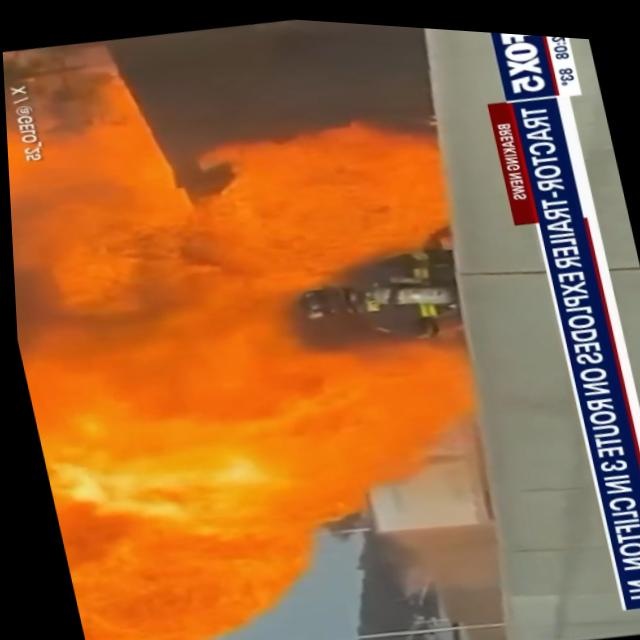Fire: (2, 40, 467, 348), (10, 252, 357, 640), (290, 320, 467, 495)
